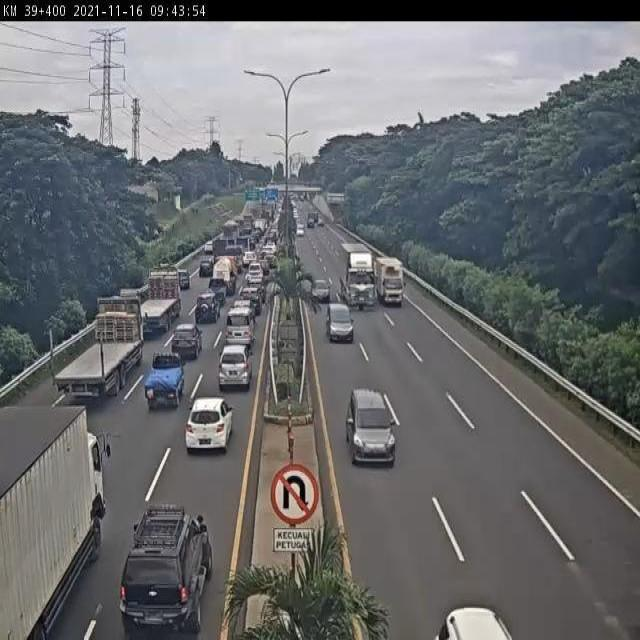Car: (119, 502, 215, 634), (346, 388, 396, 466), (185, 395, 235, 453), (217, 344, 254, 392), (171, 322, 203, 361), (325, 302, 354, 343), (225, 306, 255, 344), (195, 291, 220, 324), (240, 286, 262, 313), (310, 278, 330, 304), (178, 270, 190, 290), (296, 226, 304, 237)
Truck: (4, 405, 104, 639), (53, 294, 143, 402), (142, 348, 187, 414), (343, 245, 379, 309), (374, 256, 404, 306)
